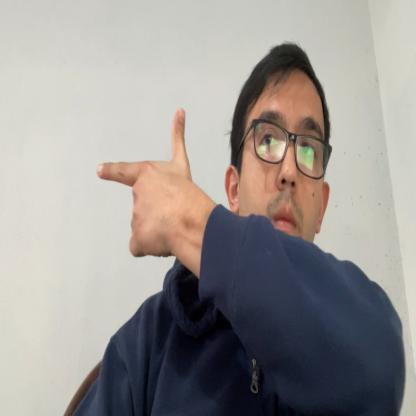G: (97, 107, 189, 257)
